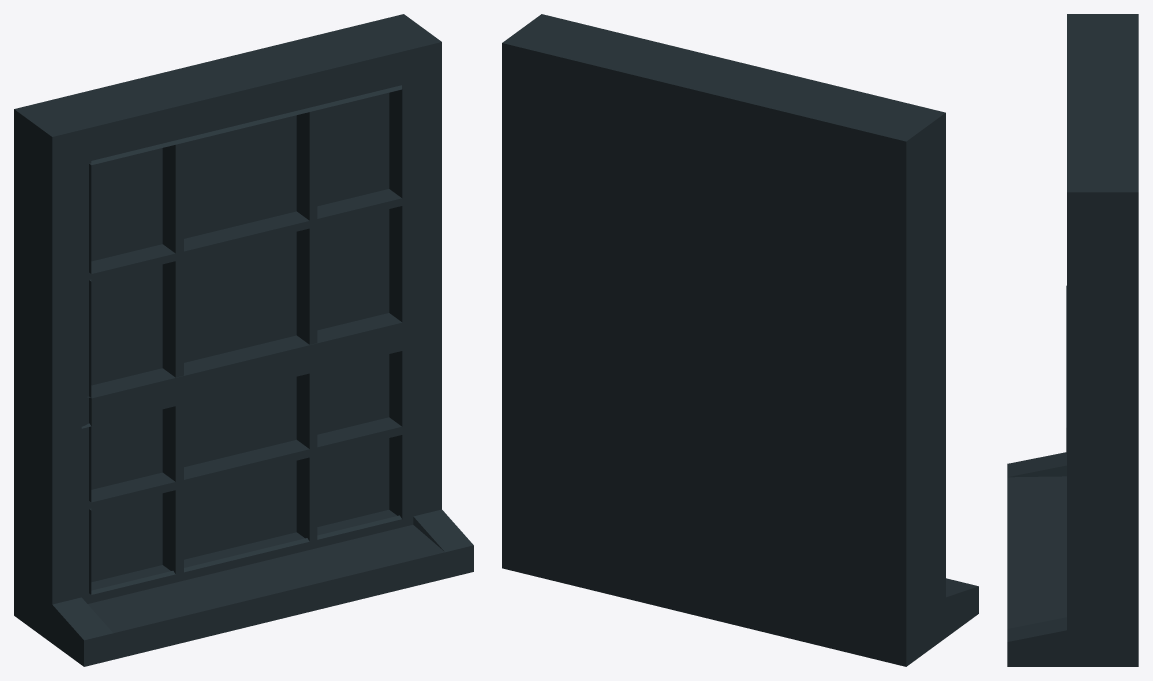
File: fenetre.fbx
3 renders of one model, left to right at view 1: azimuth 30°, elevation 25°; view 2: azimuth 150°, elevation 25°; view 3: azimuth 270°, elevation 25°, orthographic. The views are drawn at different scales.
Visible parts, largest first — view 1: Cube; view 2: Cube; view 3: Cube.
Part boxes in pixels (x1,y1,x2,y2): Cube: (14, 14, 473, 666); Cube: (502, 14, 978, 666); Cube: (1007, 14, 1138, 666).
Bounding box in the file's own units: 484 × 601 × 151.
